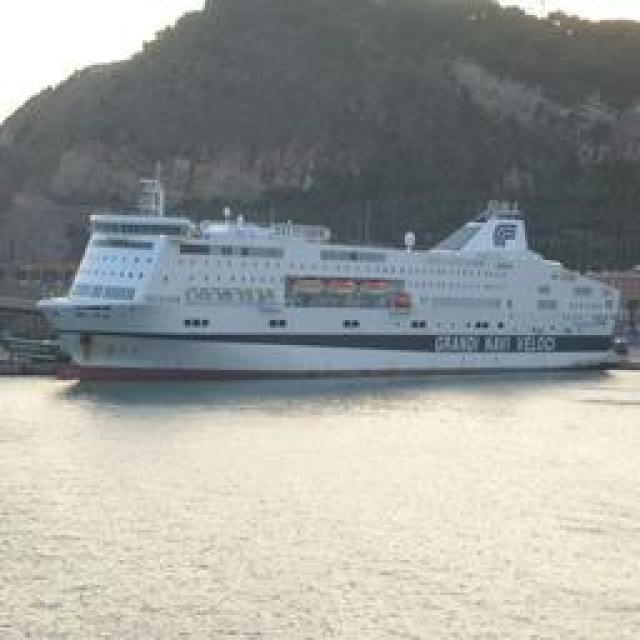Ship: (36, 196, 631, 389)
